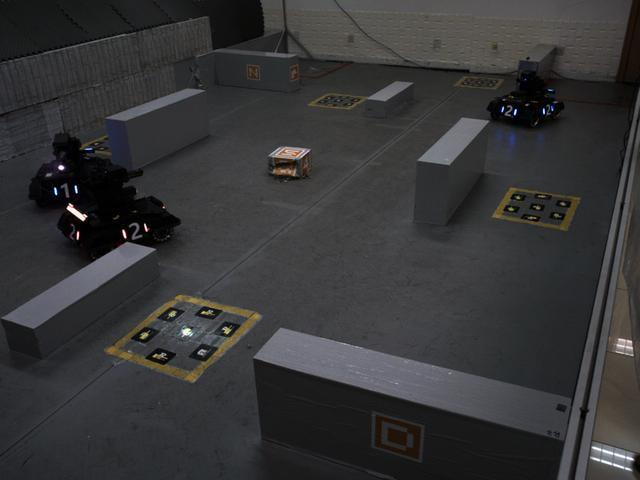armor: (56, 218, 90, 245), (113, 220, 153, 242), (48, 180, 82, 200), (497, 100, 522, 122), (538, 100, 555, 119)
